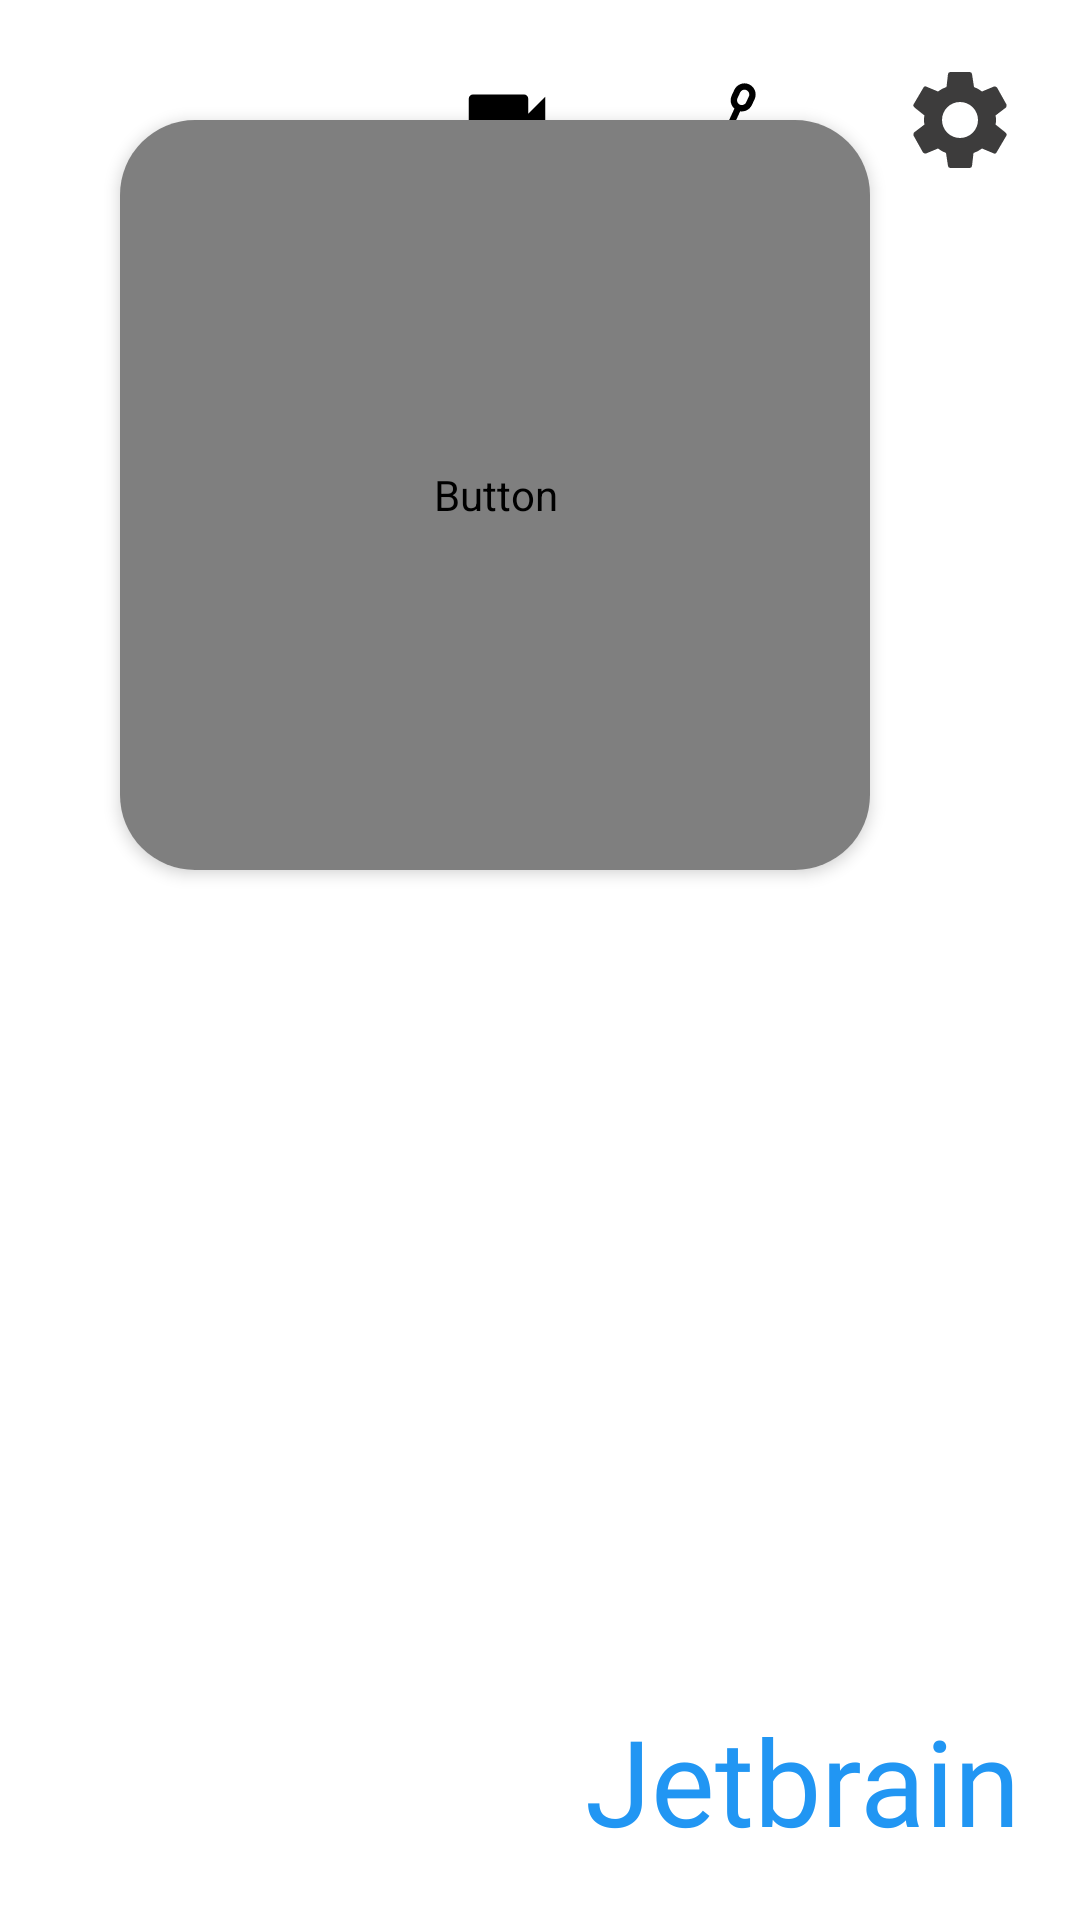

Icons on this 1080x1920 Android screen, each with its box as (x1=x1, y1=y1, x2=x2, y2=y2):
settings: (x1=913, y1=72, x2=1007, y2=168)
